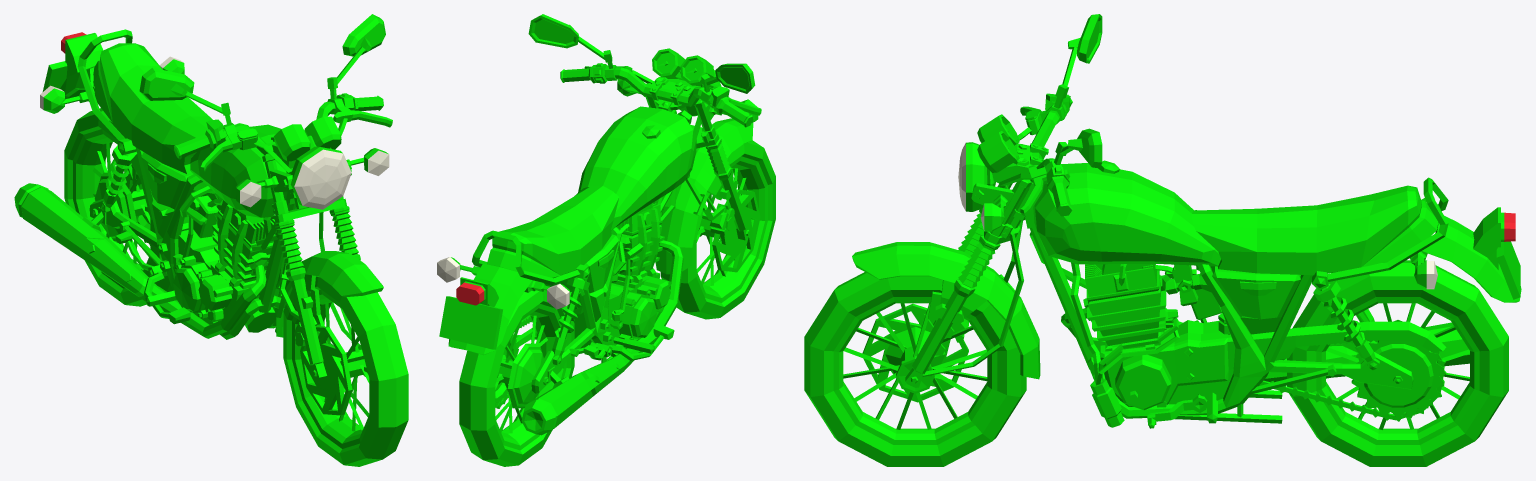
File: SM_Motorcycle_Standard_Modern.fbx
3 renders of one model, left to right at view 1: azimuth 30°, elevation 25°; view 2: azimuth 150°, elevation 25°; view 3: azimuth 270°, elevation 25°, orthographic. The views are drawn at different scales.
Visible parts, largest first — view 1: SM_Motorcycle_Standard_Modern_Base, SM_Motorcycle_Standard_Modern_Handlebars, SM_Motorcycle_Standard_Modern_Wheel_F, SM_Motorcycle_Standard_Modern_Wheel_B; view 2: SM_Motorcycle_Standard_Modern_Base, SM_Motorcycle_Standard_Modern_Handlebars, SM_Motorcycle_Standard_Modern_Wheel_B, SM_Motorcycle_Standard_Modern_Wheel_F; view 3: SM_Motorcycle_Standard_Modern_Base, SM_Motorcycle_Standard_Modern_Wheel_F, SM_Motorcycle_Standard_Modern_Handlebars, SM_Motorcycle_Standard_Modern_Wheel_B.
Boxes of the visible parts, <box> form: SM_Motorcycle_Standard_Modern_Base: <box>14,29,296,339</box>; SM_Motorcycle_Standard_Modern_Handlebars: <box>139,14,392,379</box>; SM_Motorcycle_Standard_Modern_Wheel_F: <box>283,276,408,466</box>; SM_Motorcycle_Standard_Modern_Wheel_B: <box>64,108,172,306</box>; SM_Motorcycle_Standard_Modern_Base: <box>437,106,696,435</box>; SM_Motorcycle_Standard_Modern_Handlebars: <box>528,14,761,274</box>; SM_Motorcycle_Standard_Modern_Wheel_B: <box>459,290,574,466</box>; SM_Motorcycle_Standard_Modern_Wheel_F: <box>660,140,775,319</box>; SM_Motorcycle_Standard_Modern_Base: <box>1012,160,1521,428</box>; SM_Motorcycle_Standard_Modern_Wheel_F: <box>804,272,1026,466</box>; SM_Motorcycle_Standard_Modern_Handlebars: <box>852,14,1102,387</box>; SM_Motorcycle_Standard_Modern_Wheel_B: <box>1287,260,1508,466</box>.
Bounding box in the file's own units: 0.8922 × 1.25 × 2.07.
